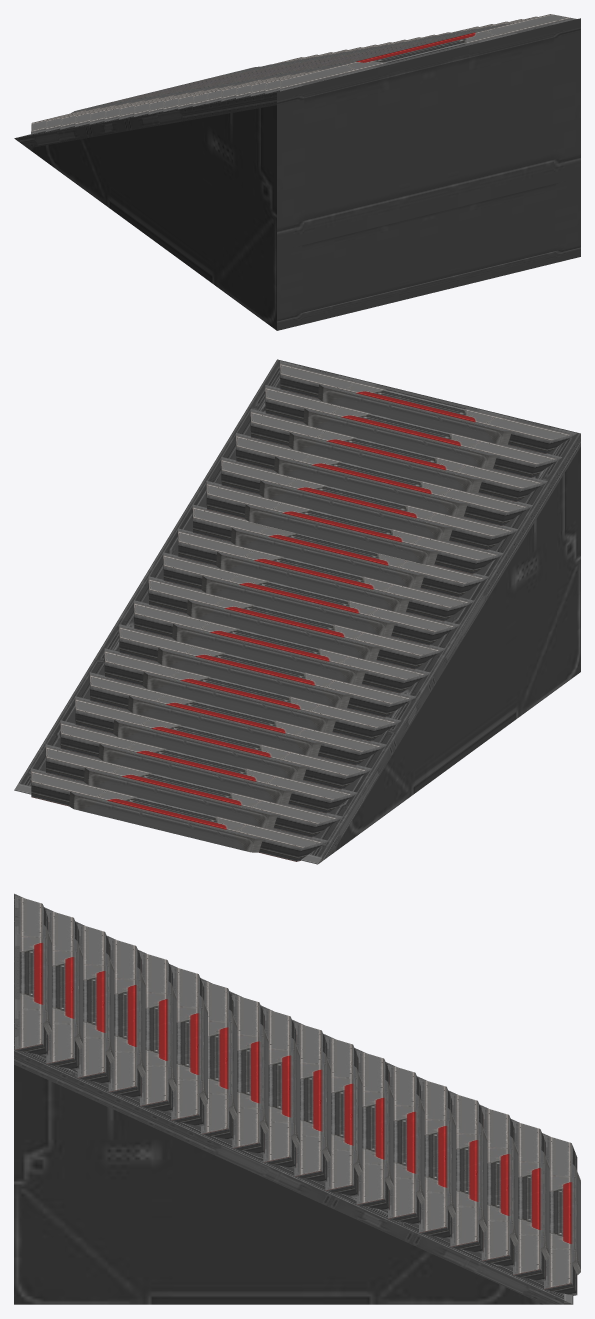
Rendered from sf_stairs_tall.glb.
3 views of the same model, one above another, from view 1: azimuth 30°, elevation 25°; view 2: azimuth 150°, elevation 25°; view 3: azimuth 270°, elevation 25° (orthographic). The views are drawn at different scales.
Parts seen in each view (by area): view 1: Platform_Stairs_4WideTall; view 2: Platform_Stairs_4WideTall; view 3: Platform_Stairs_4WideTall.
Boxes of the visible parts, <box> form: Platform_Stairs_4WideTall: <box>14,14,580,330</box>; Platform_Stairs_4WideTall: <box>14,359,580,864</box>; Platform_Stairs_4WideTall: <box>14,893,580,1304</box>.
Bounding box in the file's own units: 4 × 3.01 × 6.08.
2 materials, 2 textured.
